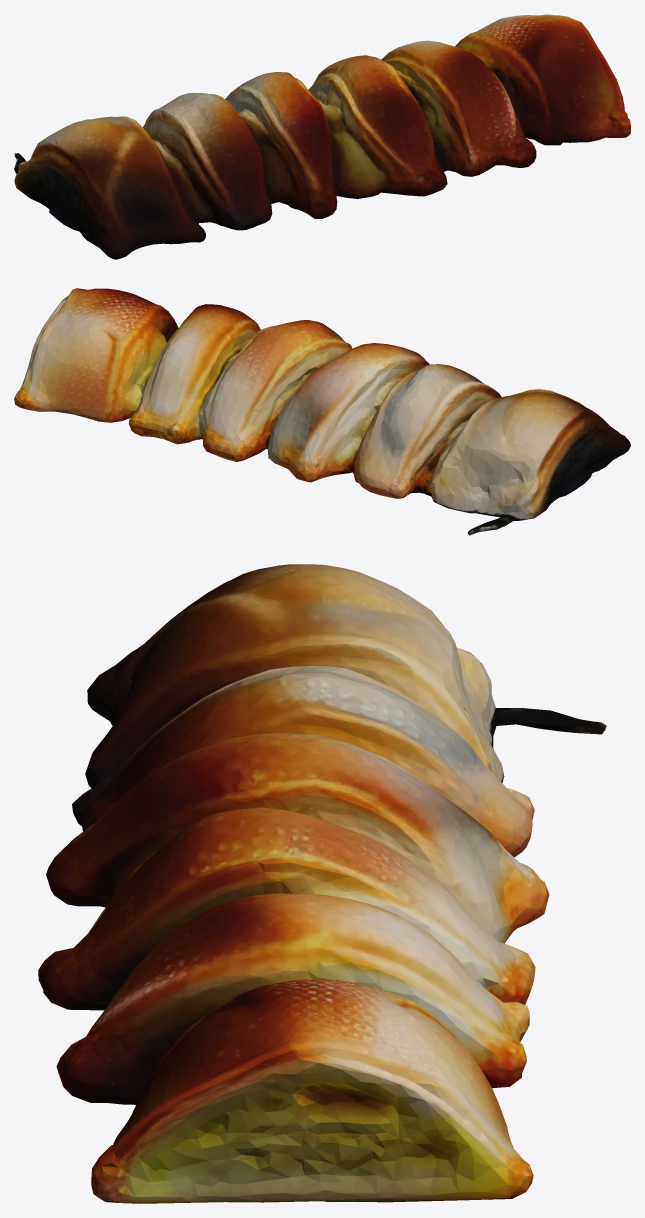
File: pastel-360.glb
3 renders of one model, top to bottom at view 1: azimuth 30°, elevation 25°; view 2: azimuth 150°, elevation 25°; view 3: azimuth 270°, elevation 25°, orthographic. The views are drawn at different scales.
Parts seen in each view (by area): view 1: geometry_0; view 2: geometry_0; view 3: geometry_0.
Boxes of the visible parts, <box> form: geometry_0: <box>14,14,630,259</box>; geometry_0: <box>14,288,630,535</box>; geometry_0: <box>38,564,606,1203</box>.
Bounding box in the file's own units: 0.9978 × 0.1692 × 0.4781.
Materials: 1 (1 with a texture image).
